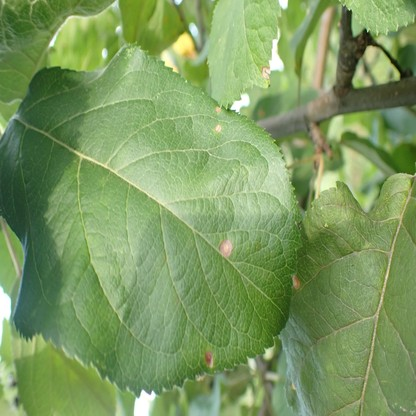frogeye: (220, 239, 232, 259), (205, 350, 214, 369), (292, 274, 301, 291), (261, 66, 271, 81), (215, 123, 220, 133), (215, 106, 220, 113)
